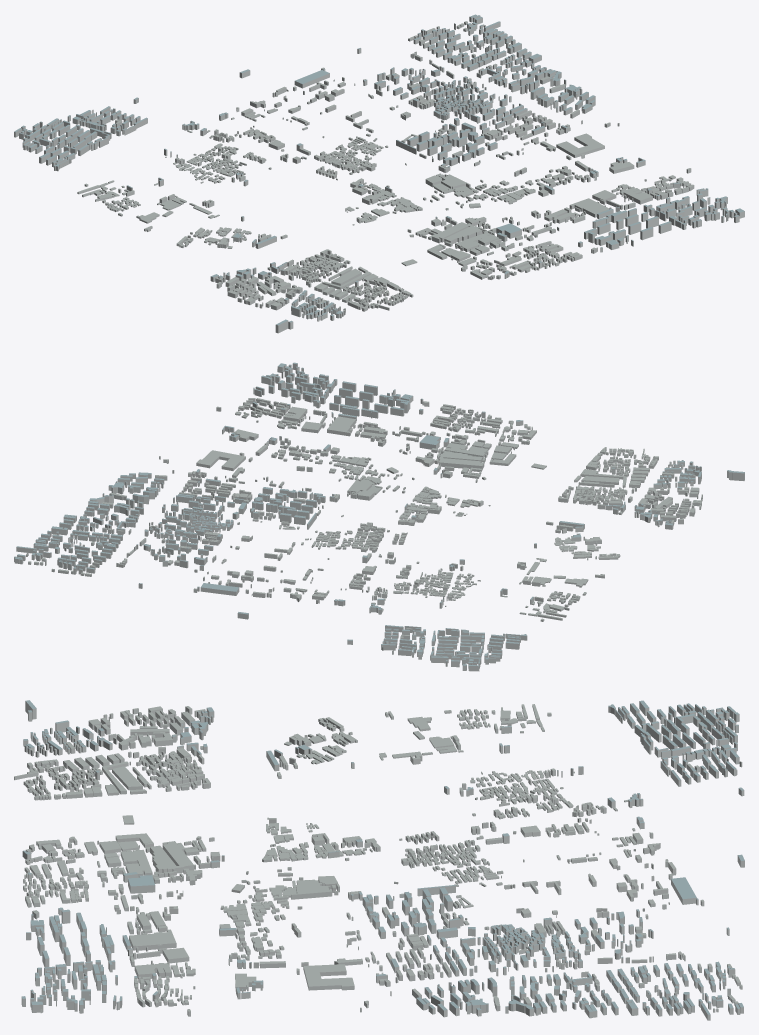
The model's file is far.glb.
3 renders of one model, top to bottom at view 1: azimuth 30°, elevation 25°; view 2: azimuth 150°, elevation 25°; view 3: azimuth 270°, elevation 25°, orthographic. The views are drawn at different scales.
Bounding box in the file's own units: 2164 × 37.82 × 2126.
